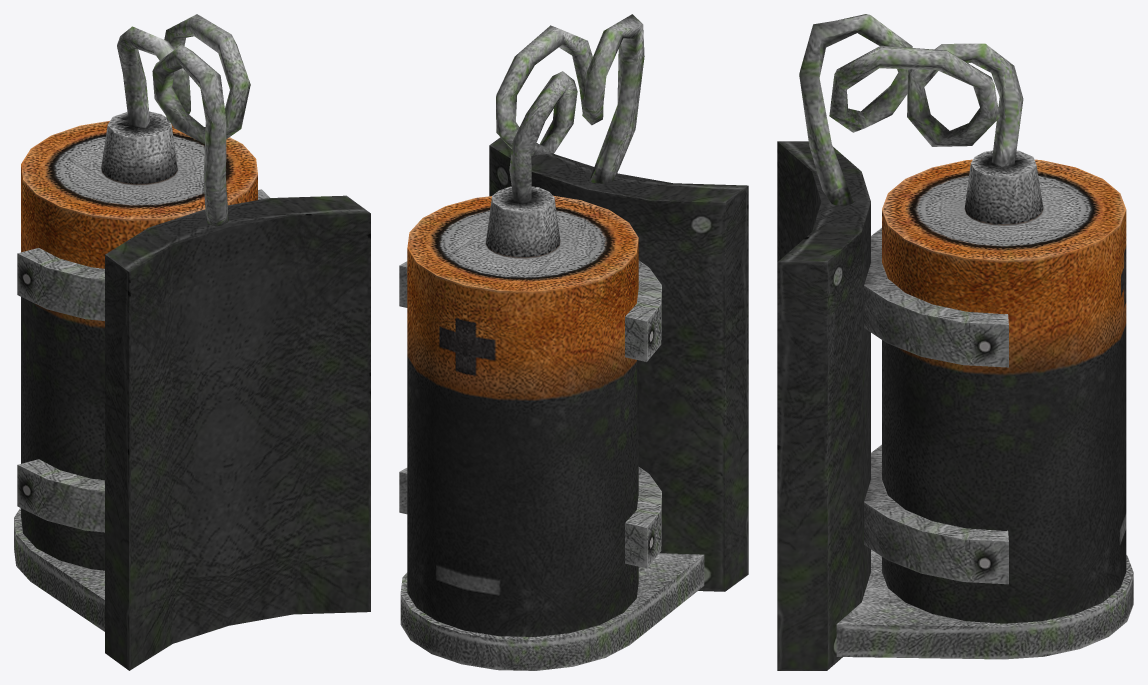
File: BACK_BATTERY.fbx
3 renders of one model, left to right at view 1: azimuth 30°, elevation 25°; view 2: azimuth 150°, elevation 25°; view 3: azimuth 270°, elevation 25°, orthographic. The views are drawn at different scales.
Visible parts, largest first — view 1: BACK_BATTERY; view 2: BACK_BATTERY; view 3: BACK_BATTERY.
Boxes of the visible parts, x1,y1,x2,y2 form: BACK_BATTERY: (14, 14, 370, 670); BACK_BATTERY: (399, 14, 748, 670); BACK_BATTERY: (777, 14, 1133, 670).
Size of the model in its own units: 0.0195 by 0.0426 by 0.0235.
